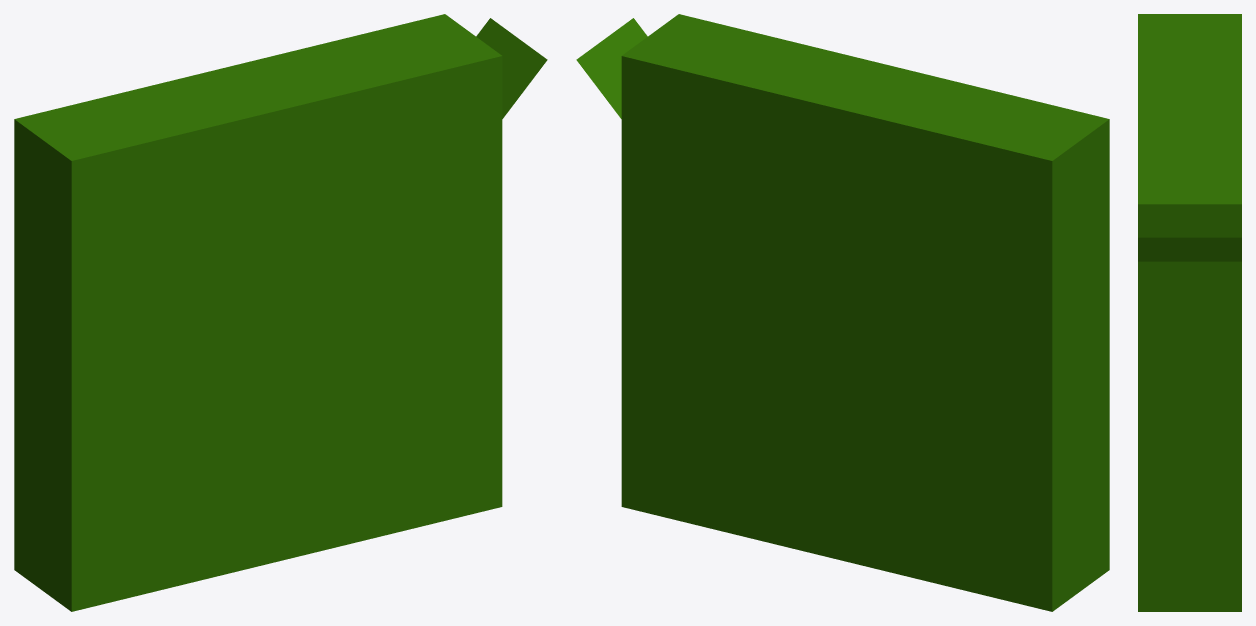
File: Порошок1Unity.fbx
The picture shows the model from 3 angles, left to right: view 1: azimuth 30°, elevation 25°; view 2: azimuth 150°, elevation 25°; view 3: azimuth 270°, elevation 25°; orthographic projection. The views are drawn at different scales.
Visible parts, largest first — view 1: Cube; view 2: Cube; view 3: Cube.
Part boxes in pixels (left/top/right/bottom): Cube: left=14, top=14, right=547, bottom=611; Cube: left=576, top=14, right=1109, bottom=611; Cube: left=1138, top=14, right=1241, bottom=611.
Bounding box in the file's own units: 221 × 200 × 46.1.
